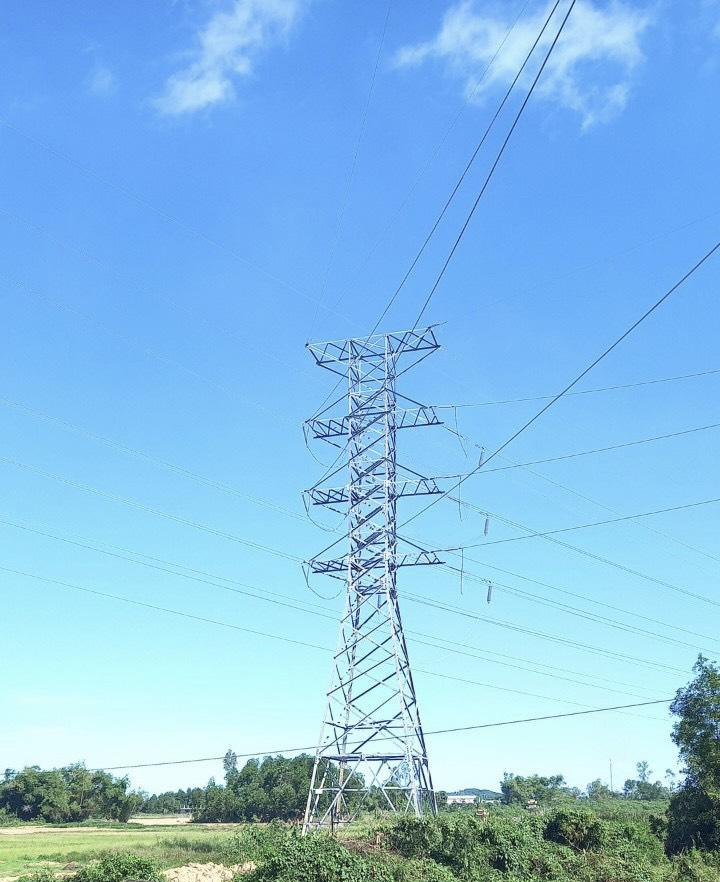power_tower: (310, 321, 430, 826)
